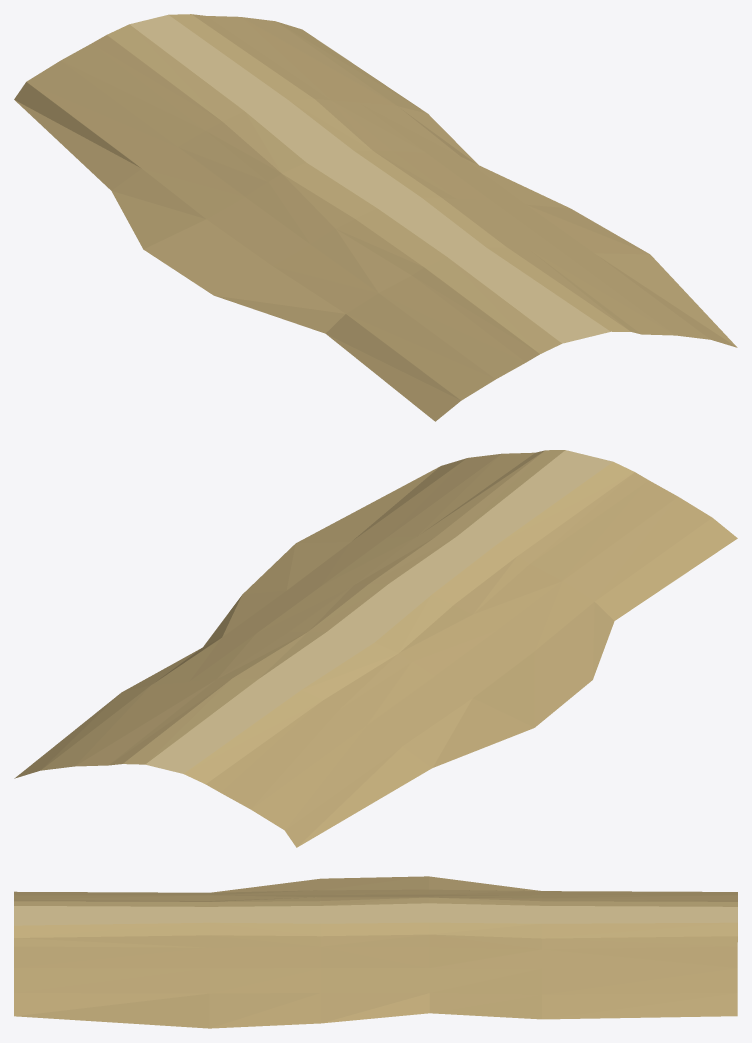
File: Little_water.FBX
The picture shows the model from 3 angles, top to bottom: view 1: azimuth 30°, elevation 25°; view 2: azimuth 150°, elevation 25°; view 3: azimuth 270°, elevation 25°; orthographic projection. The views are drawn at different scales.
Visible parts, largest first — view 1: Little_water; view 2: Little_water; view 3: Little_water.
Part boxes in pixels (x1=…): Little_water: x1=14, y1=14, x2=737, y2=421; Little_water: x1=14, y1=450, x2=737, y2=847; Little_water: x1=14, y1=876, x2=737, y2=1028.
Bounding box in the file's own units: 5473 × 658 × 11001.
